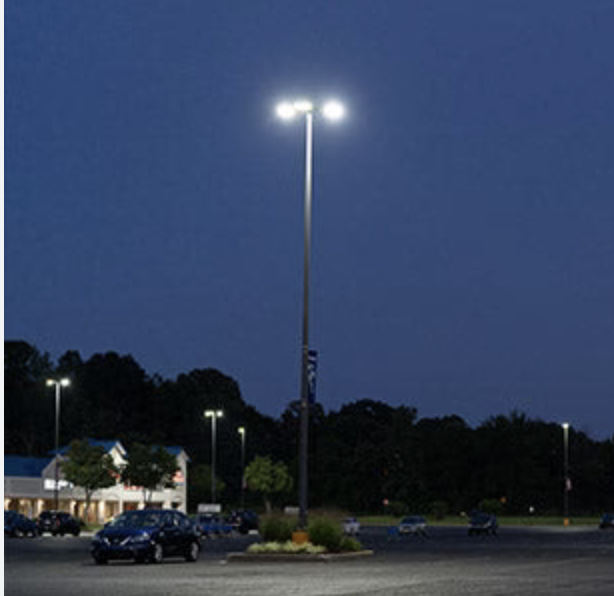LED: (258, 90, 358, 132)
